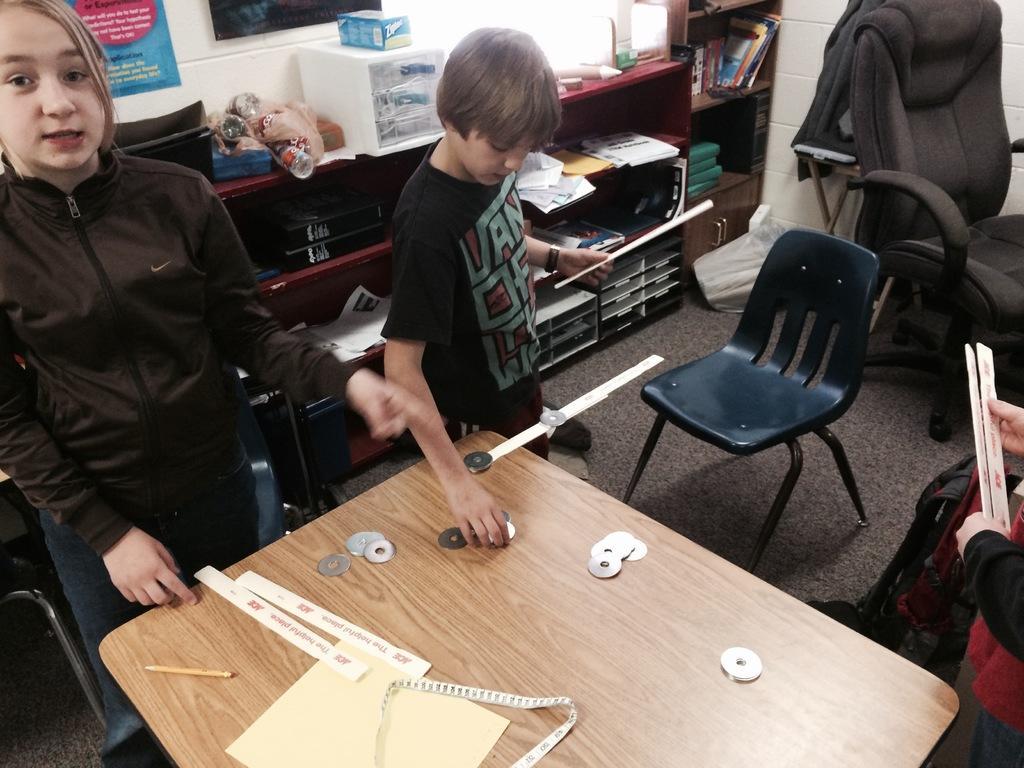Chair: (620, 202, 886, 558), (846, 0, 1023, 445), (230, 369, 305, 550)
